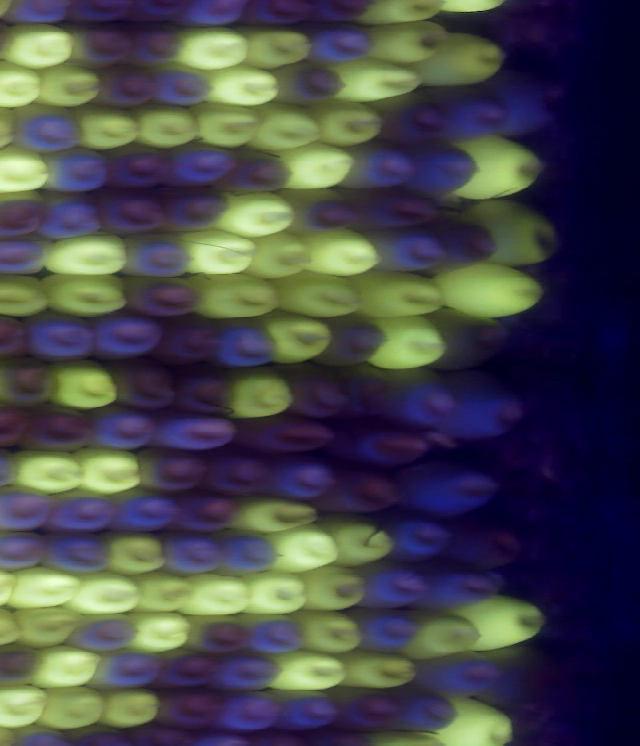fluorescent: (436, 258, 549, 324), (473, 195, 560, 275), (459, 132, 549, 208), (344, 267, 451, 328), (413, 26, 510, 93), (184, 268, 285, 326), (366, 310, 453, 376), (272, 268, 369, 327), (455, 592, 548, 653), (320, 56, 426, 108), (166, 19, 258, 75), (246, 96, 328, 158), (358, 13, 453, 66), (433, 692, 526, 746), (212, 187, 301, 243), (296, 224, 385, 280), (399, 609, 490, 663), (258, 307, 337, 369), (275, 139, 362, 195), (319, 510, 400, 570), (186, 96, 267, 155), (5, 445, 93, 499), (265, 522, 349, 578), (41, 229, 135, 279), (308, 95, 389, 153), (2, 562, 89, 615), (42, 270, 131, 321), (28, 59, 111, 113), (0, 15, 80, 71), (239, 19, 319, 75), (178, 226, 258, 281), (68, 99, 146, 155), (128, 98, 206, 154), (222, 366, 297, 424), (45, 357, 122, 413), (291, 605, 365, 663), (69, 442, 147, 497), (203, 64, 287, 115), (98, 526, 174, 582), (233, 491, 325, 537), (245, 228, 321, 283), (334, 648, 421, 696), (64, 572, 151, 620), (29, 644, 111, 694), (35, 681, 110, 735), (266, 648, 351, 695), (124, 606, 200, 658), (298, 562, 372, 615), (177, 572, 257, 621), (8, 602, 84, 652), (240, 566, 314, 617), (125, 568, 200, 617), (93, 683, 166, 731), (0, 265, 59, 321), (0, 143, 55, 197), (355, 1, 453, 31), (0, 56, 46, 114), (0, 679, 53, 729)
nonfluorescent: (393, 456, 503, 530), (469, 435, 566, 517), (439, 364, 534, 444), (484, 68, 576, 140), (428, 304, 515, 379), (330, 419, 437, 479), (376, 363, 464, 435), (314, 463, 412, 525), (430, 82, 518, 148), (239, 412, 342, 466), (479, 640, 554, 714), (437, 511, 522, 576), (403, 140, 486, 204), (324, 679, 410, 740), (370, 90, 453, 152), (168, 359, 242, 428), (100, 353, 182, 415), (341, 601, 427, 660), (280, 359, 354, 427), (364, 223, 453, 279), (382, 506, 462, 568), (91, 184, 175, 243), (420, 214, 501, 275), (416, 560, 502, 617), (4, 99, 87, 158), (349, 188, 445, 239), (149, 308, 229, 369), (146, 406, 243, 456), (83, 308, 168, 365), (351, 557, 433, 616), (113, 227, 199, 283), (20, 399, 103, 457), (198, 446, 282, 503), (160, 135, 242, 193), (206, 315, 284, 375), (130, 443, 212, 500), (29, 190, 112, 246), (22, 310, 102, 368), (336, 140, 420, 195), (79, 403, 164, 457), (267, 58, 354, 110), (387, 681, 465, 739), (297, 19, 382, 72), (99, 137, 178, 194), (260, 452, 343, 506), (205, 528, 288, 582), (284, 184, 365, 239), (333, 364, 405, 425), (37, 527, 119, 580), (316, 315, 395, 370), (43, 485, 122, 540), (150, 684, 235, 735), (119, 273, 205, 323), (84, 646, 170, 696), (213, 144, 297, 195), (266, 682, 345, 736), (104, 489, 188, 539), (236, 604, 308, 662), (169, 487, 243, 542), (143, 58, 218, 112), (42, 141, 113, 197), (158, 527, 229, 583), (420, 652, 500, 701), (207, 647, 287, 696), (156, 186, 233, 235), (62, 24, 139, 72), (72, 608, 147, 657), (209, 686, 288, 732), (183, 612, 257, 660), (117, 20, 186, 71), (149, 645, 223, 690), (0, 481, 59, 537), (0, 351, 57, 406), (0, 188, 55, 244), (94, 63, 163, 107), (234, 1, 319, 34), (171, 1, 255, 33), (2, 1, 77, 34), (0, 525, 50, 574), (0, 235, 51, 281), (293, 1, 372, 29), (58, 1, 143, 27), (0, 305, 35, 367), (0, 641, 43, 689), (0, 395, 34, 455), (121, 1, 189, 29)
